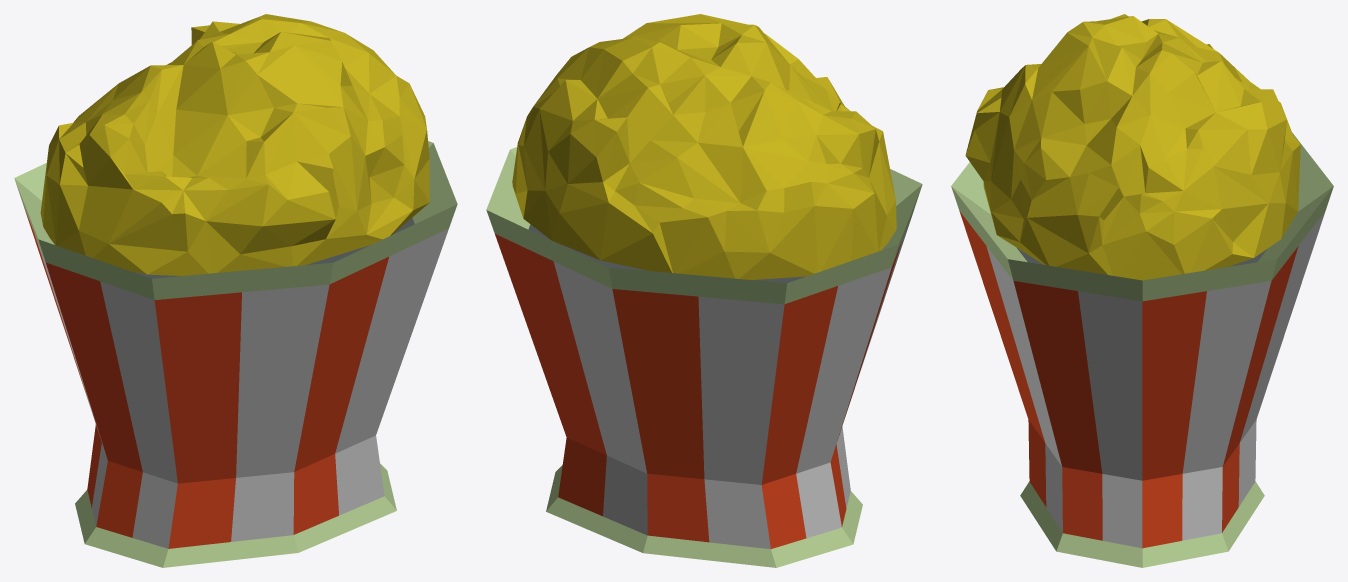
Rendered from Popcorn.fbx.
3 renders of one model, left to right at view 1: azimuth 30°, elevation 25°; view 2: azimuth 150°, elevation 25°; view 3: azimuth 270°, elevation 25°, orthographic. The views are drawn at different scales.
Parts seen in each view (by area): view 1: Popcorn; view 2: Popcorn; view 3: Popcorn.
Boxes of the visible parts, <box> form: Popcorn: <box>14,14,457,567</box>; Popcorn: <box>486,14,922,567</box>; Popcorn: <box>951,14,1333,567</box>.
Bounding box in the file's own units: 18.02 × 20.74 × 15.43.
